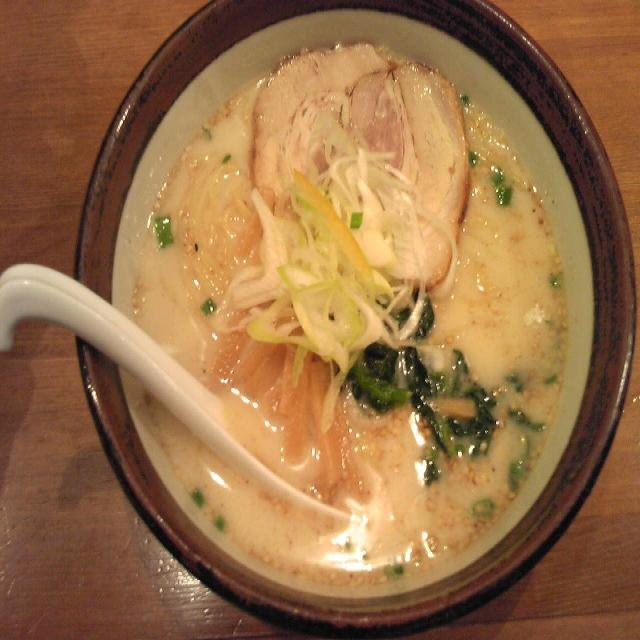面条主食: (62, 0, 633, 640)
